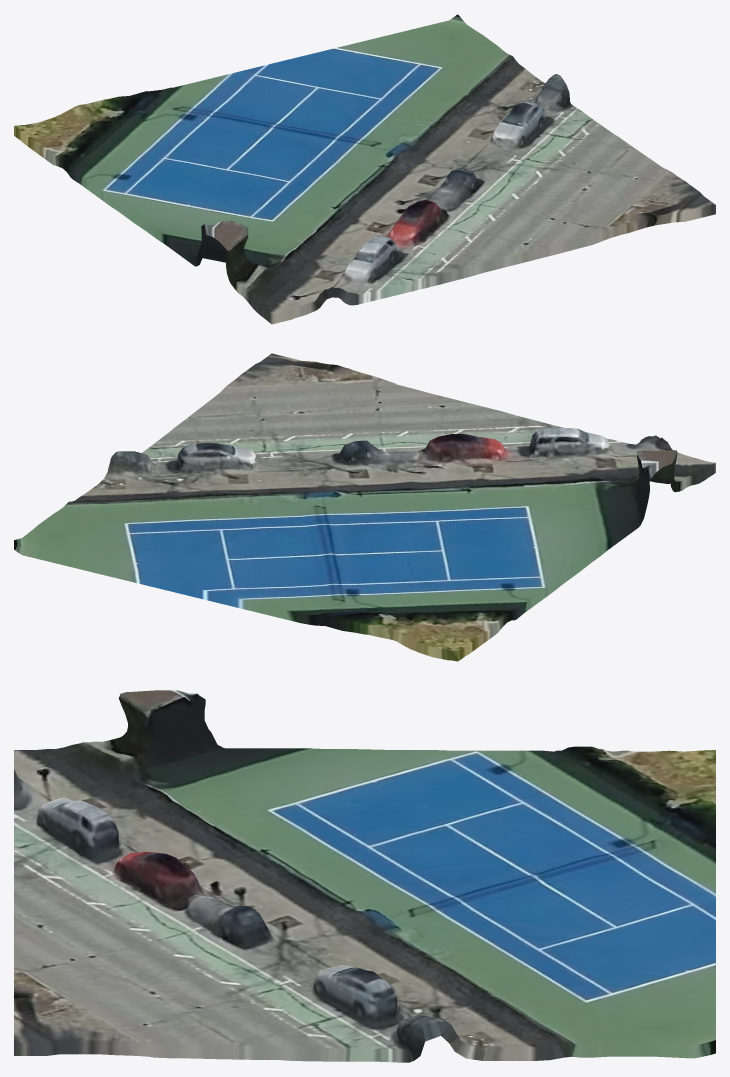
File: z20-167780-405210-h0-yup-uvflip-v3-world.glb
3 views of the same model, one above another, from view 1: azimuth 30°, elevation 25°; view 2: azimuth 150°, elevation 25°; view 3: azimuth 270°, elevation 25° (orthographic). The views are drawn at different scales.
Bounding box in the file's own units: 30.16 × 3.8 × 30.32.
1 material, 1 textured.
